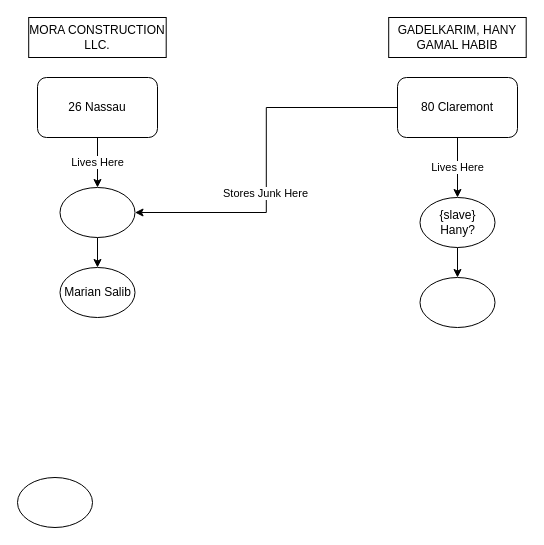
This 544x545 diagram has some shape labels left out. Each missing label, with the centre of its shape:
"Biro Hany (Pierre)" goes at [457,302].
"Construction Limo Driver" goes at [54,502].
"{troll} Salib" goes at [97,212].
